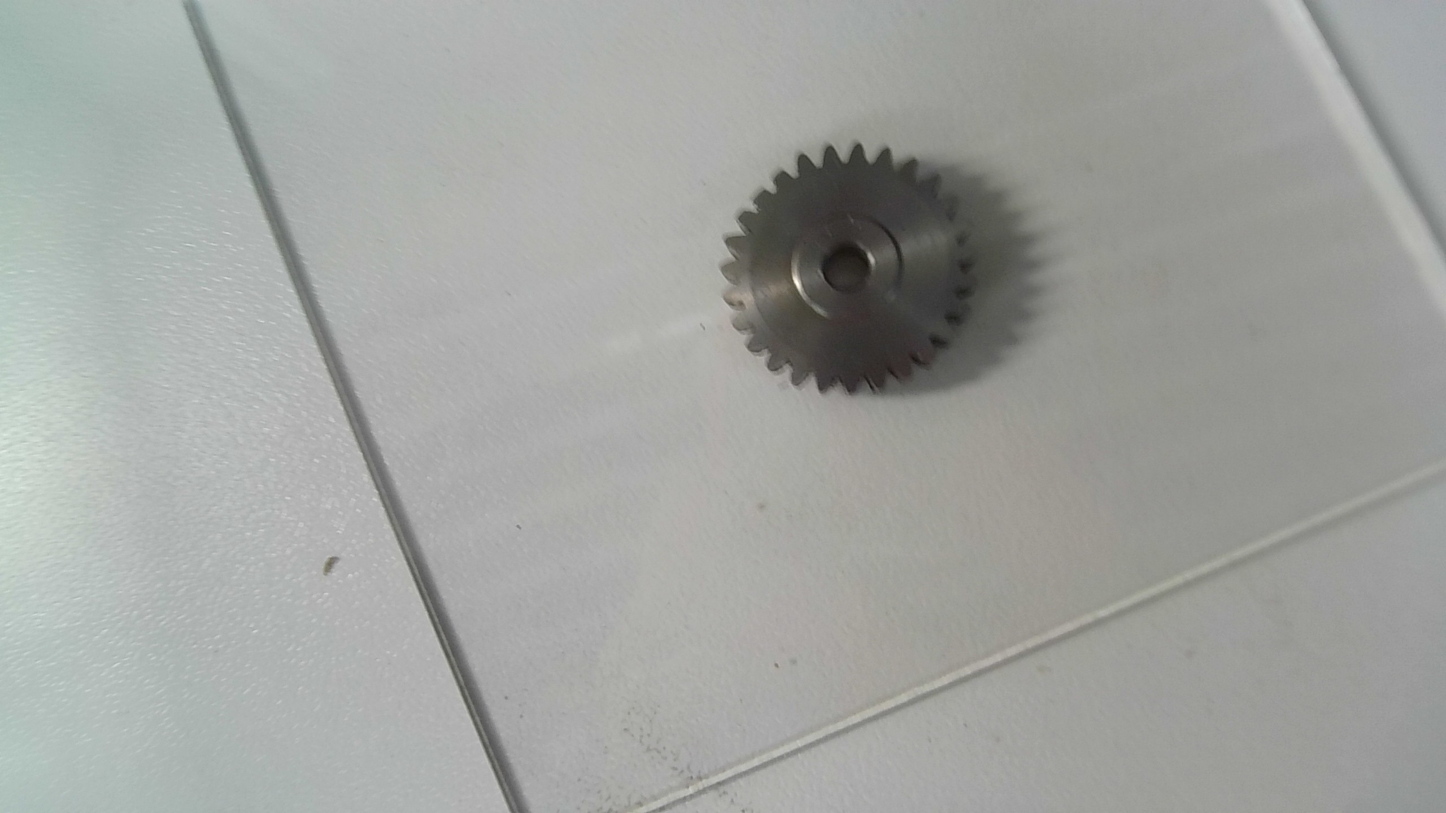gear: (715, 139, 974, 393)
